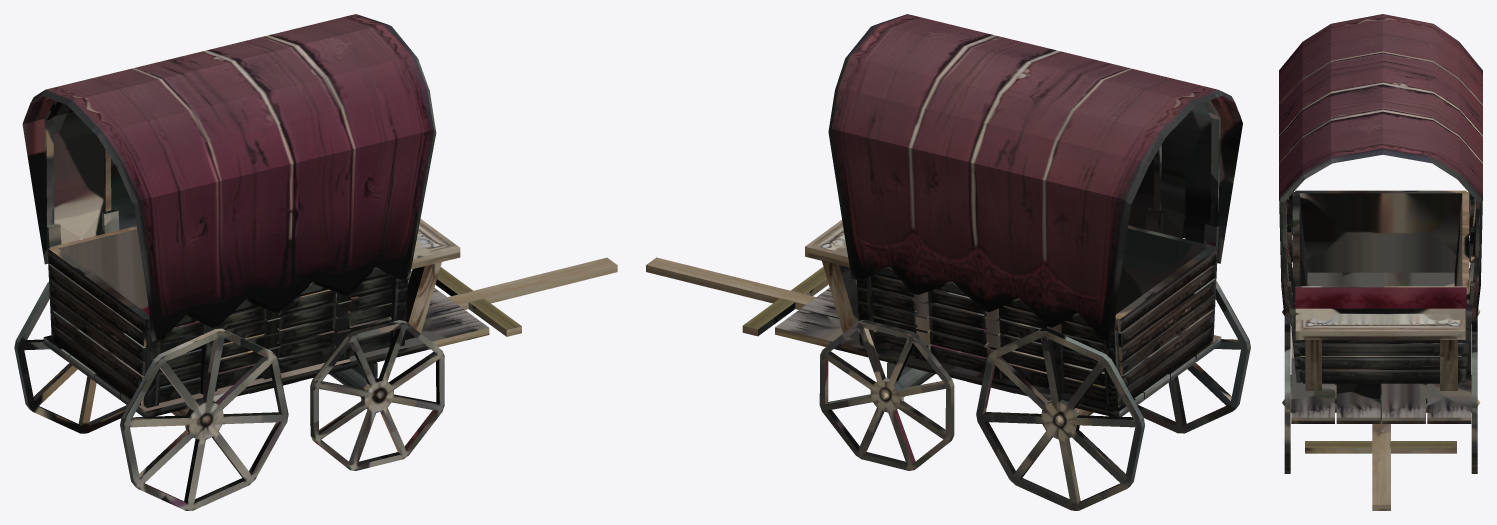
The picture shows the model from 3 angles, left to right: view 1: azimuth 30°, elevation 25°; view 2: azimuth 150°, elevation 25°; view 3: azimuth 270°, elevation 25°; orthographic projection. The views are drawn at different scales.
Visible parts, largest first — view 1: textured.obj; view 2: textured.obj; view 3: textured.obj.
Part boxes in pixels (x1,y1,x2,y2): textured.obj: [14, 14, 617, 510]; textured.obj: [646, 14, 1250, 510]; textured.obj: [1279, 14, 1482, 510].
Bounding box in the file's own units: 2 × 1.35 × 0.733.
